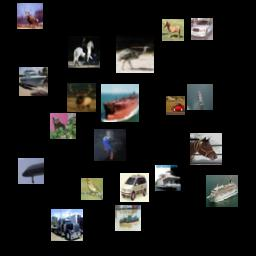airplane: (18, 158, 44, 184)
automobile: (120, 173, 149, 202), (191, 18, 213, 40), (166, 96, 185, 115)
bird: (116, 35, 154, 73), (94, 129, 126, 161), (81, 178, 103, 200)
cat: (50, 113, 76, 139)
deer: (67, 83, 96, 112), (17, 3, 43, 29)
ship: (101, 84, 139, 122), (206, 175, 238, 207), (19, 67, 48, 96), (115, 205, 141, 231), (155, 165, 181, 191), (187, 84, 213, 110)
truck: (51, 209, 83, 241)
